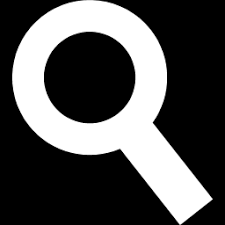searchIcon: (12, 1, 216, 223)
